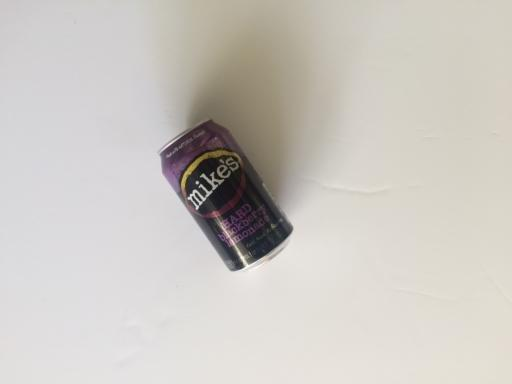kaleng: (159, 119, 294, 272)
